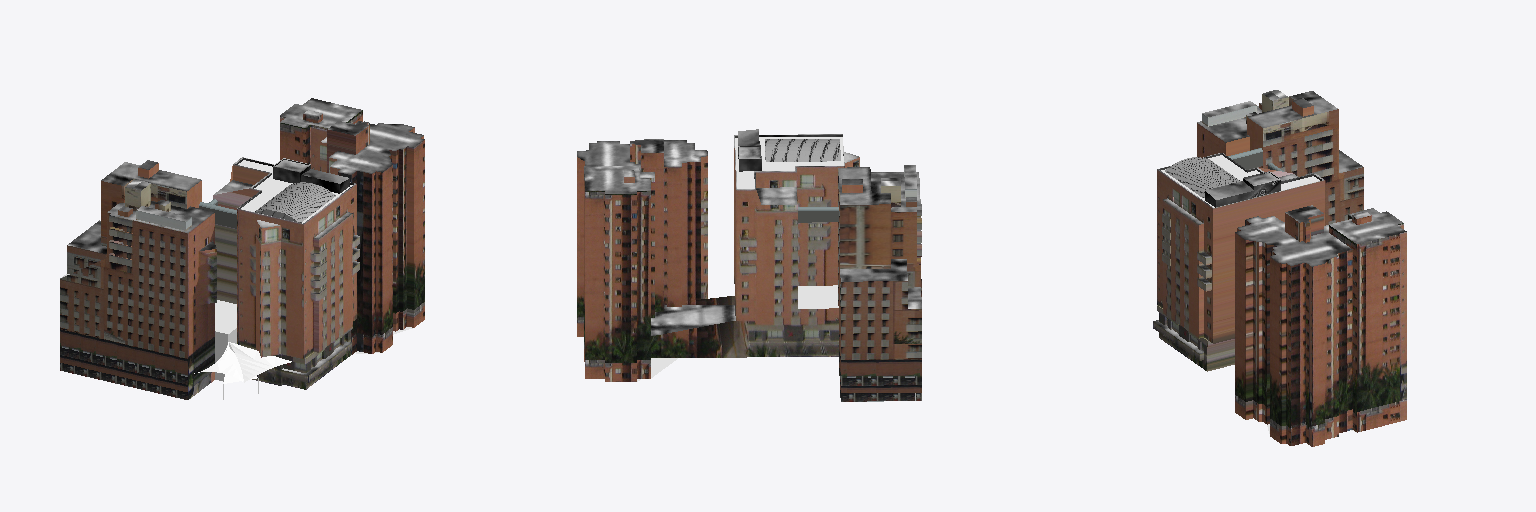
3 views of the same model, side by side, from view 1: azimuth 30°, elevation 25°; view 2: azimuth 150°, elevation 25°; view 3: azimuth 270°, elevation 25° (orthographic).
Visible parts, largest first — view 1: Mesh1 Model, Mesh9 Model, Mesh5 Model; view 2: Mesh1 Model, Mesh9 Model; view 3: Mesh9 Model, Mesh1 Model.
Part boxes in pixels (x1,y1,x2,y2): Mesh1 Model: (60,157,356,399); Mesh9 Model: (280,98,424,354); Mesh5 Model: (229,342,291,382); Mesh1 Model: (651,129,921,401); Mesh9 Model: (577,139,707,381); Mesh9 Model: (1235,205,1406,446); Mesh1 Model: (1153,90,1363,371).
Size of the model in its own units: 8579 by 4958 by 5400.
Materials: 34 (30 with a texture image).